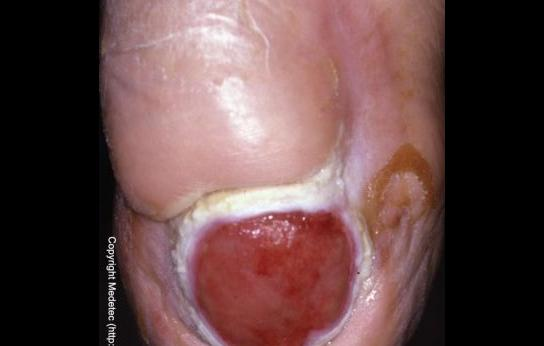NonPU: (149, 123, 438, 346)
